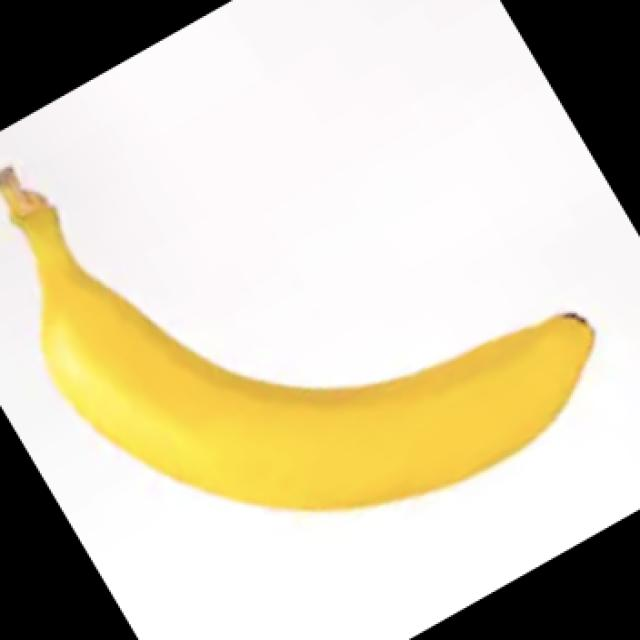god quality banana: (2, 167, 595, 509)
